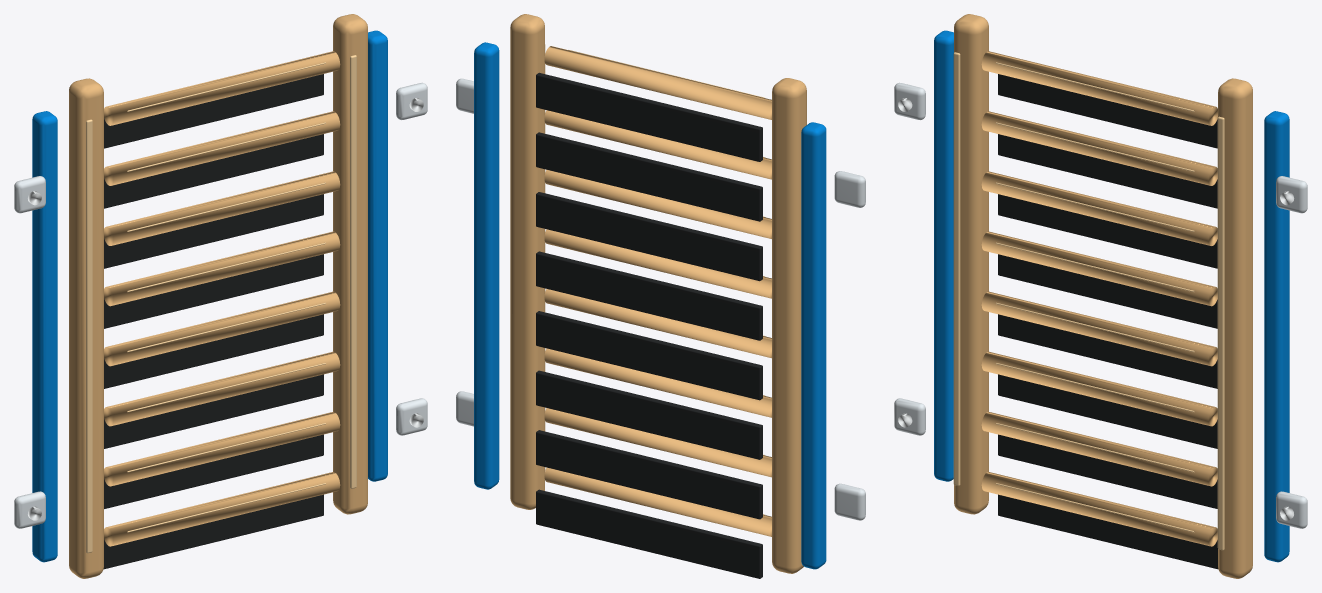
Rendered from sprossenwand_modul_3D.glb.
3 renders of one model, left to right at view 1: azimuth 30°, elevation 25°; view 2: azimuth 150°, elevation 25°; view 3: azimuth 330°, elevation 25°, orthographic.
Parts seen in each view (by area): view 1: sprossenwand_modul_3D__web_warm_wooden_wall_bar_rails_and_ru, sprossenwand_modul_3D__web_black_shadow_gaps_behind_wall_bar, sprossenwand_modul_3D__web_glossy_blue_wall_bar_side_support, sprossenwand_modul_3D__web_pale_wood_highlights_on_wall_bars, sprossenwand_modul_3D__web_light_grey_wall_bar_mounting_plat, sprossenwand_modul_3D__web_small_chrome_wall_bar_bolts; view 2: sprossenwand_modul_3D__web_black_shadow_gaps_behind_wall_bar, sprossenwand_modul_3D__web_warm_wooden_wall_bar_rails_and_ru, sprossenwand_modul_3D__web_glossy_blue_wall_bar_side_support, sprossenwand_modul_3D__web_light_grey_wall_bar_mounting_plat; view 3: sprossenwand_modul_3D__web_warm_wooden_wall_bar_rails_and_ru, sprossenwand_modul_3D__web_black_shadow_gaps_behind_wall_bar, sprossenwand_modul_3D__web_glossy_blue_wall_bar_side_support, sprossenwand_modul_3D__web_pale_wood_highlights_on_wall_bars, sprossenwand_modul_3D__web_light_grey_wall_bar_mounting_plat, sprossenwand_modul_3D__web_small_chrome_wall_bar_bolts.
Boxes of the visible parts, <box> form: sprossenwand_modul_3D__web_warm_wooden_wall_bar_rails_and_ru: <box>69,14,367,578</box>; sprossenwand_modul_3D__web_black_shadow_gaps_behind_wall_bar: <box>103,74,323,569</box>; sprossenwand_modul_3D__web_glossy_blue_wall_bar_side_support: <box>32,30,387,562</box>; sprossenwand_modul_3D__web_pale_wood_highlights_on_wall_bars: <box>86,55,356,553</box>; sprossenwand_modul_3D__web_light_grey_wall_bar_mounting_plat: <box>14,82,427,528</box>; sprossenwand_modul_3D__web_small_chrome_wall_bar_bolts: <box>28,98,423,520</box>; sprossenwand_modul_3D__web_black_shadow_gaps_behind_wall_bar: <box>536,72,762,578</box>; sprossenwand_modul_3D__web_warm_wooden_wall_bar_rails_and_ru: <box>510,14,806,573</box>; sprossenwand_modul_3D__web_glossy_blue_wall_bar_side_support: <box>474,42,826,569</box>; sprossenwand_modul_3D__web_light_grey_wall_bar_mounting_plat: <box>456,78,865,520</box>; sprossenwand_modul_3D__web_warm_wooden_wall_bar_rails_and_ru: <box>954,14,1252,578</box>; sprossenwand_modul_3D__web_black_shadow_gaps_behind_wall_bar: <box>998,74,1218,569</box>; sprossenwand_modul_3D__web_glossy_blue_wall_bar_side_support: <box>934,30,1289,562</box>; sprossenwand_modul_3D__web_pale_wood_highlights_on_wall_bars: <box>953,52,1224,550</box>; sprossenwand_modul_3D__web_light_grey_wall_bar_mounting_plat: <box>894,82,1307,528</box>; sprossenwand_modul_3D__web_small_chrome_wall_bar_bolts: <box>898,98,1294,520</box>.
Bounding box in the file's own units: 1.44 × 1.66 × 0.142.
